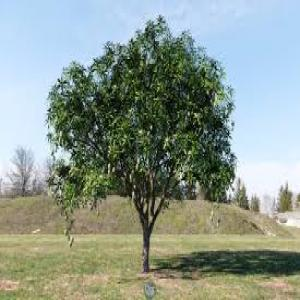Tree: (40, 13, 238, 272)
